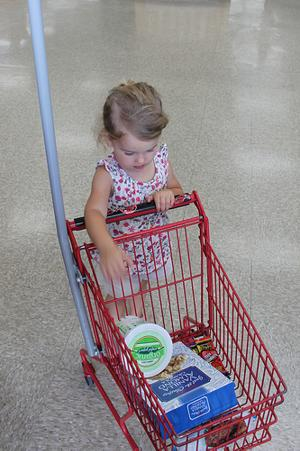person: (85, 77, 183, 359)
